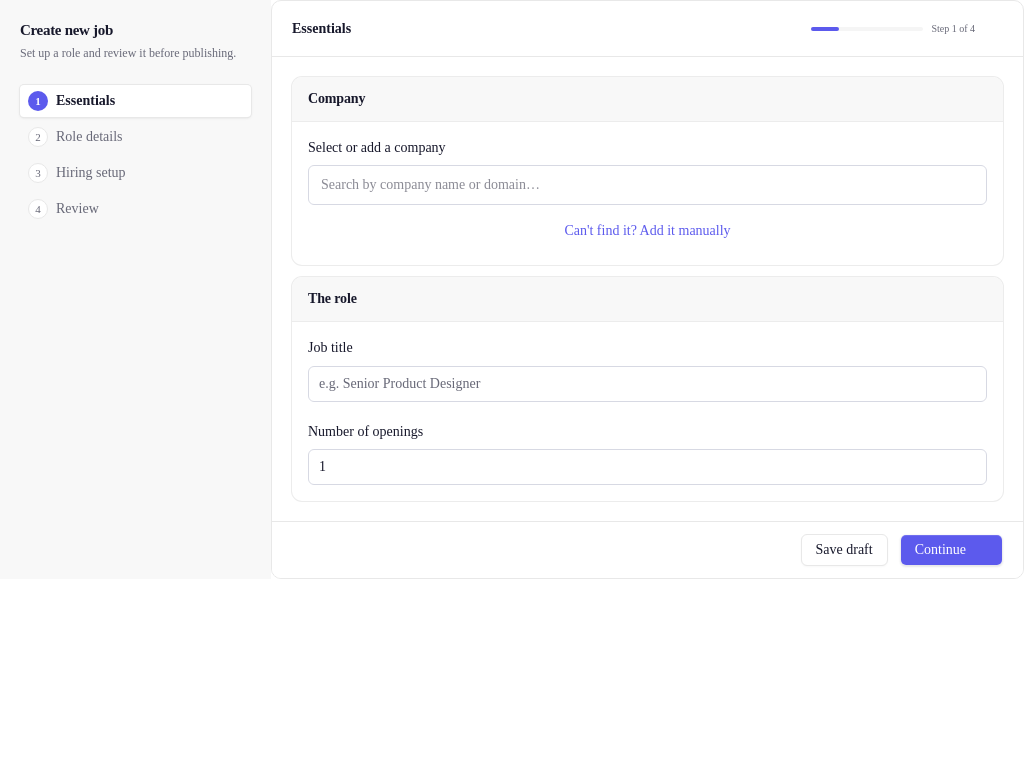
Test case: job organization selection › keeps the recruiter on essentials when required fields are missing
Click the button "Continue".
click(951, 550)  # box [900,534,1003,566]
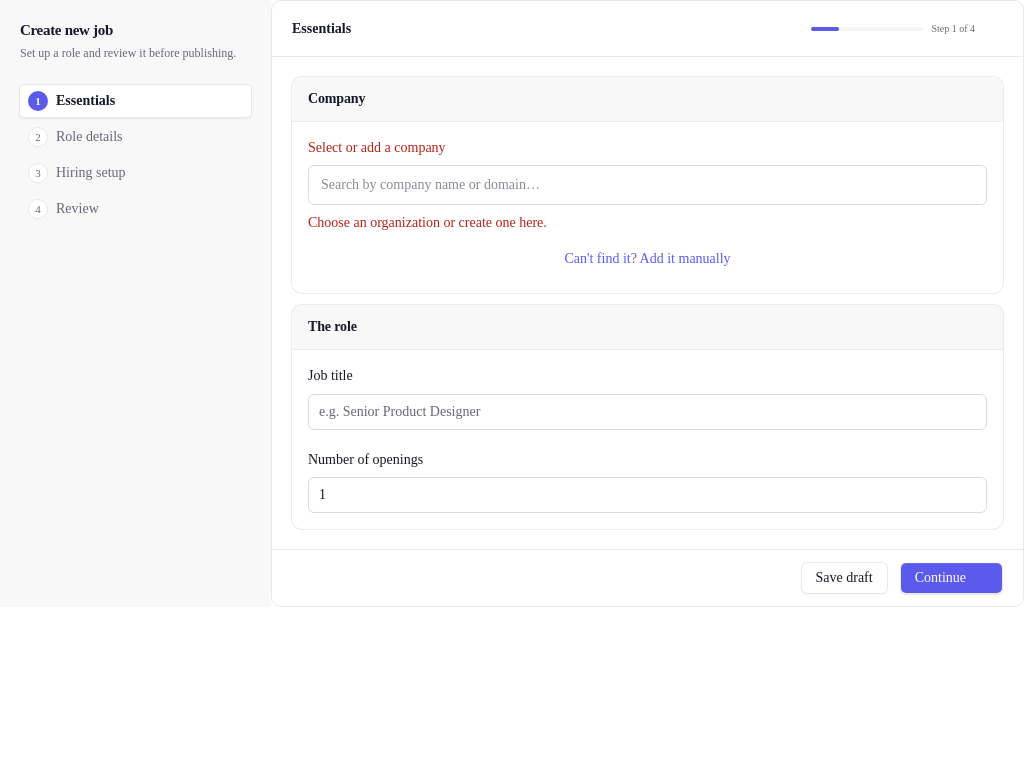
expect the field labelled "Job title" is shown: met, box [308,394,987,430]
expect the text "Choose an organization or create one here." is shown: met, box [308,215,547,230]
